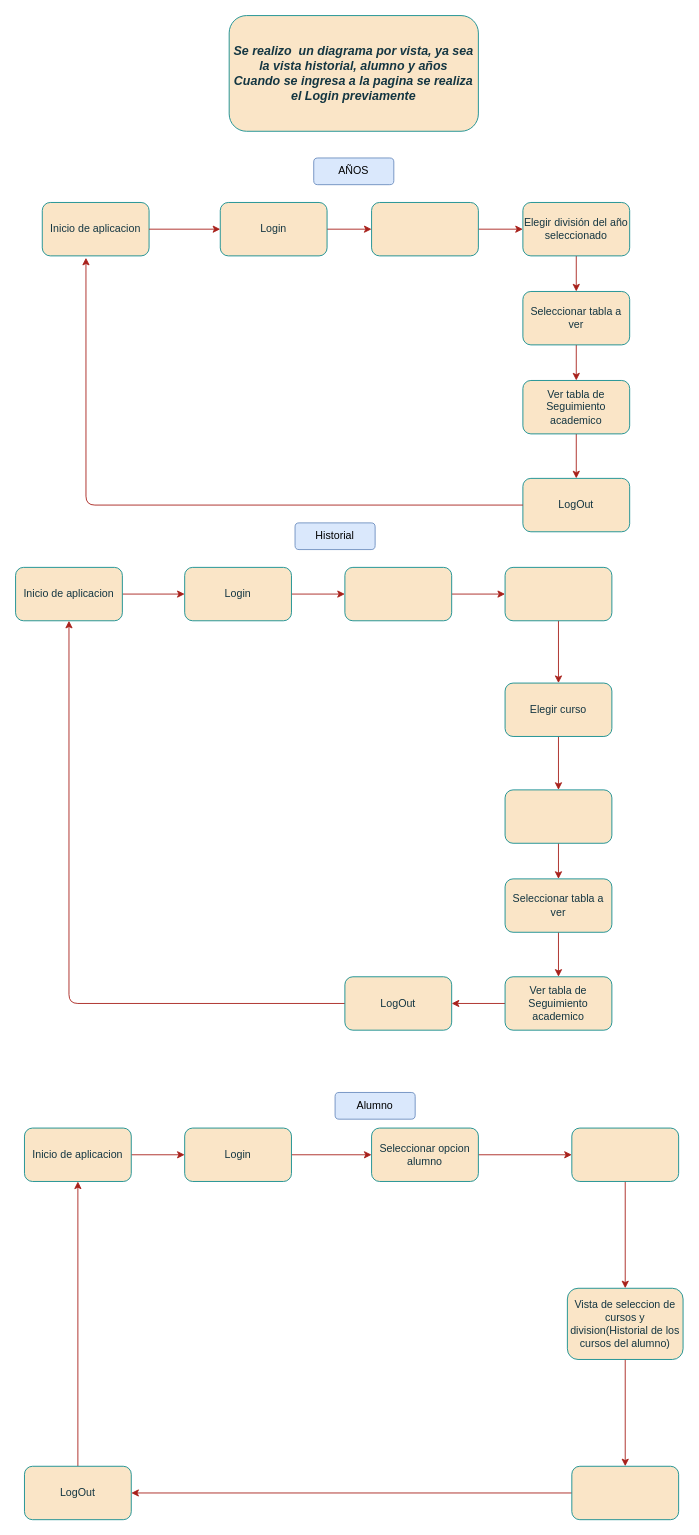
Image size: 699x1535. Some labels were removed from this diagram. Here are the shapes that lost their labels. From the top down, the centre of each, then its label:
At point (424, 229): "Seleccionar opción años".
At point (398, 593): "Seleccionar opcion historial".
At point (558, 593): "Seleccionar el ciclo lectivo".
At point (558, 816): "Elegir division del curso".
At point (625, 1154): "Buscar alumno por nombre y apellido".
At point (625, 1492): "Ver tabla de Seguimiento académico del alumno".
